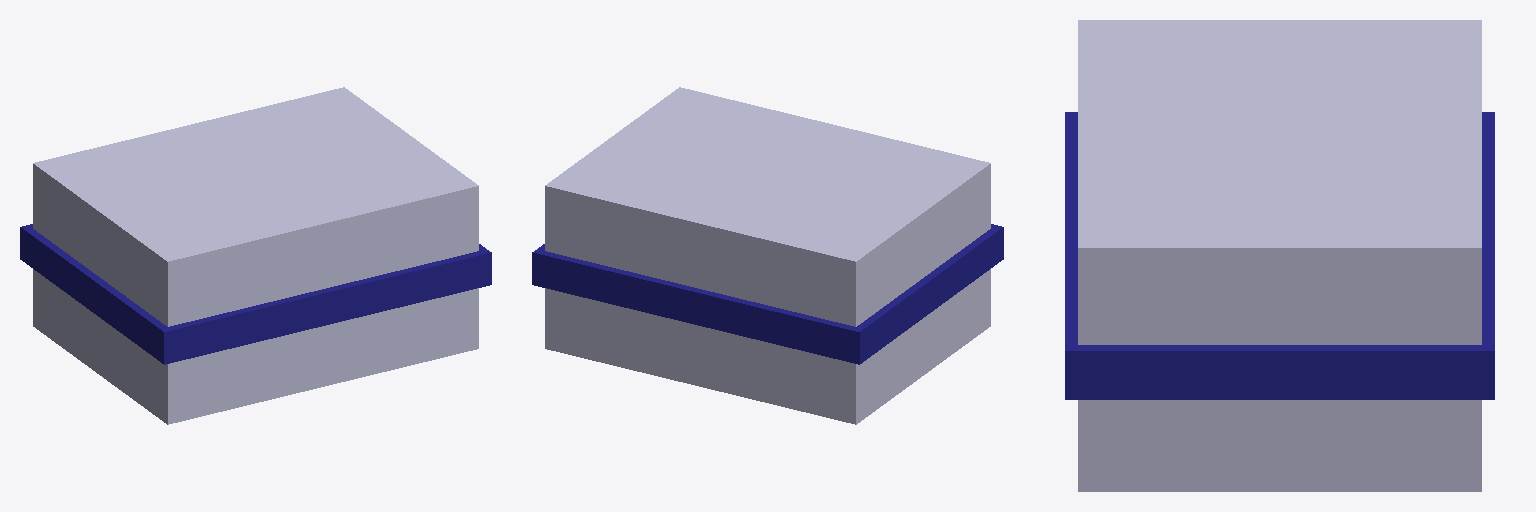
URDF robot description (locknlock_container):
<?xml version="1.0" ?>
<robot name="locknlock_container">
    <!-- Base (Main Body) -->
    <link name="base">
        <visual>
            <geometry>
                <box size="0.2 0.15 0.1"/>
            </geometry>
            <material name="clear_plastic">
                <color rgba="0.8 0.8 0.9 0.5"/>
            </material>
        </visual>
    </link>

    <!-- Lid (Detachable) -->
    <link name="lid">
        <visual>
            <geometry>
                <box size="0.21 0.16 0.02"/>
            </geometry>
            <material name="blue_lid">
                <color rgba="0.2 0.2 0.6 1.0"/>
            </material>
        </visual>
    </link>

    <!-- Free-floating lid -->
    <joint name="lid_joint" type="floating">
        <parent link="base"/>
        <child link="lid"/>
    </joint>

    <!-- Latches (Front and Back) -->
    <link name="latch_front">
        <visual>
            <geometry>
                <box size="0.05 0.02 0.015"/>
            </geometry>
            <material name="black_latch">
                <color rgba="0.1 0.1 0.1 1.0"/>
            </material>
        </visual>
    </link>

    <link name="latch_back">
        <visual>
            <geometry>
                <box size="0.05 0.02 0.015"/>
            </geometry>
            <material name="black_latch">
                <color rgba="0.1 0.1 0.1 1.0"/>
            </material>
        </visual>
    </link>

    <!-- Hinges for Latches -->
    <joint name="latch_front_joint" type="revolute">
        <parent link="base"/>
        <child link="latch_front"/>
        <axis xyz="0 1 0"/>
        <limit lower="0" upper="1.57" effort="1.0" velocity="1.0"/>
    </joint>

    <joint name="latch_back_joint" type="revolute">
        <parent link="base"/>
        <child link="latch_back"/>
        <axis xyz="0 1 0"/>
        <limit lower="0" upper="1.57" effort="1.0" velocity="1.0"/>
    </joint>
</robot>

--- Facts derived from the render (not from the file) ---
Views: 3 orthographic renders of the robot side by side, from view 1: azimuth 30°, elevation 25°; view 2: azimuth 150°, elevation 25°; view 3: azimuth 270°, elevation 25°.
Robot: locknlock_container — 4 links, 3 joints (2 revolute, 1 floating); root link base; default pose: every joint at zero.
Links seen in each view (by area): view 1: base, lid; view 2: base, lid; view 3: base, lid.
Link boxes in pixels (<box>): base: <box>33,87,478,424</box>; lid: <box>20,224,491,364</box>; base: <box>545,87,990,424</box>; lid: <box>532,224,1003,364</box>; base: <box>1078,20,1481,491</box>; lid: <box>1065,112,1494,399</box>.
Size in the robot's own frame: 0.21 by 0.16 by 0.1 metres.
Geometry: primitives only (box / cylinder / sphere), no mesh files.